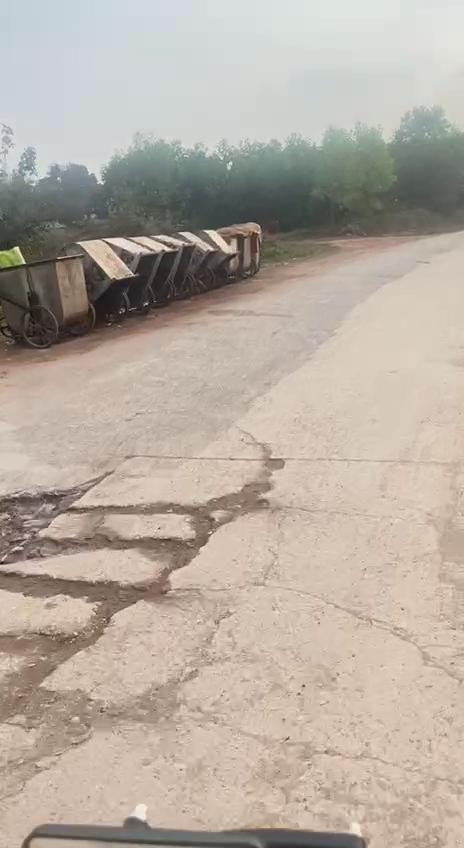pothole: (0, 450, 295, 765)
